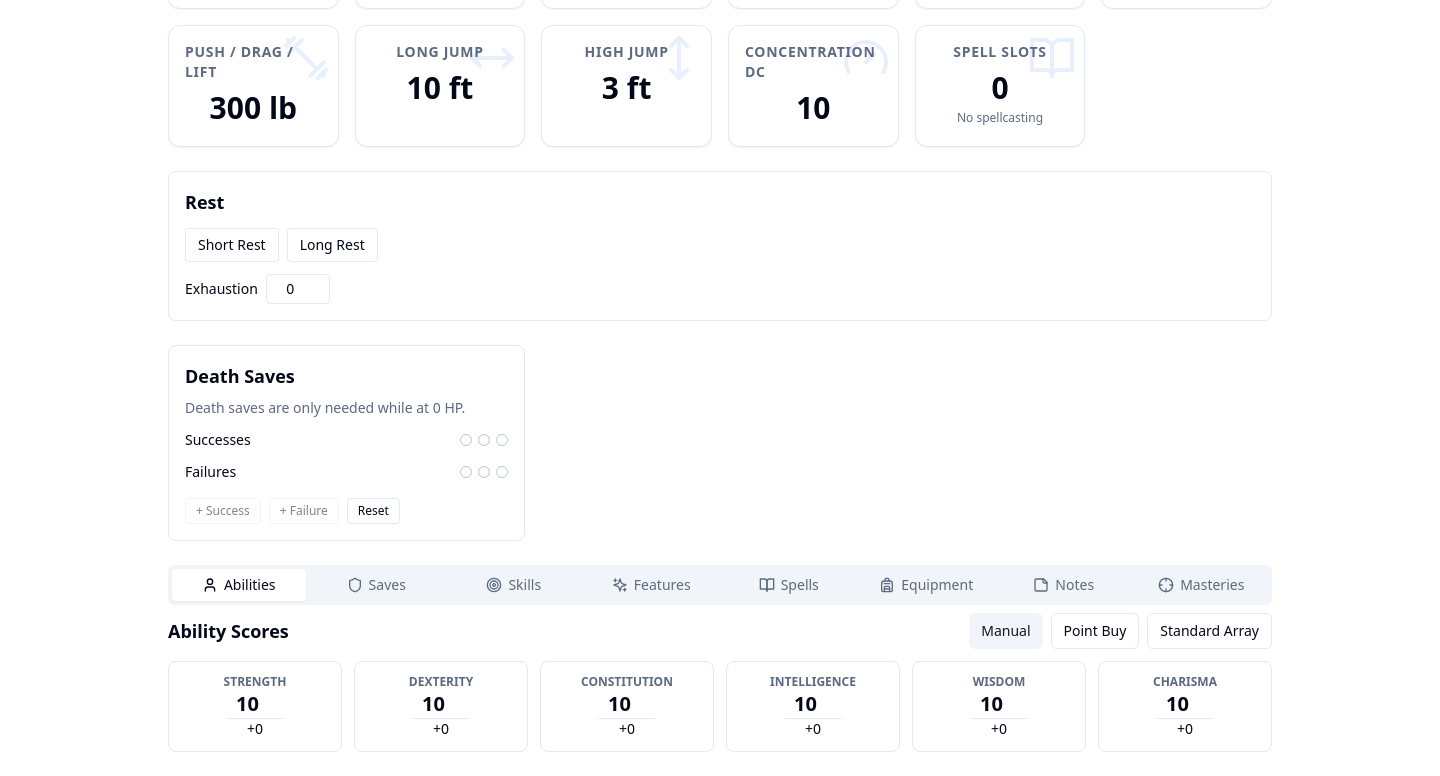
it: System Sheets › warms and renders the extracted shared 5e equipment tab
(page scrolled)
Click the tab "Equipment": point(926, 585) [860, 569, 993, 601]
(page scrolled)
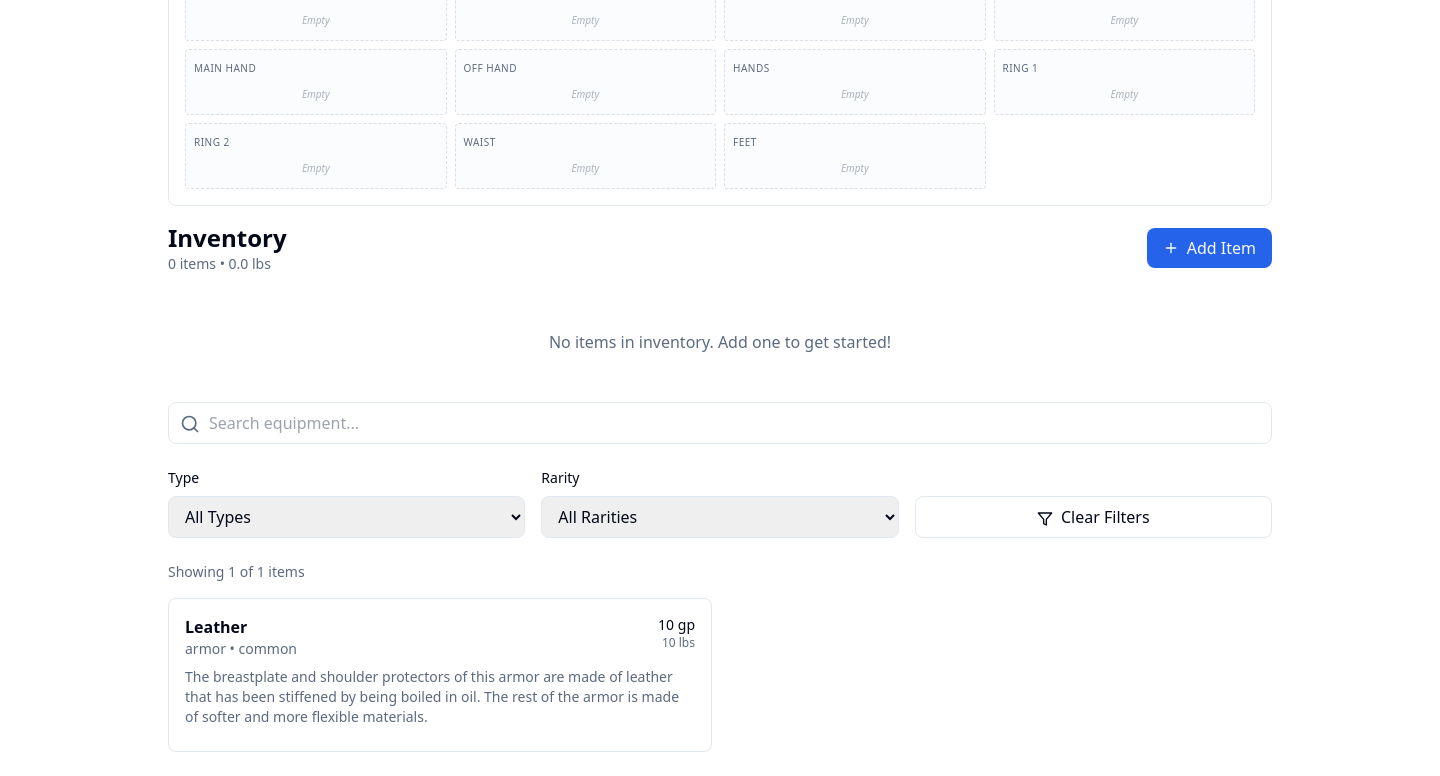
Expected: the field with placeholder "Search equipment..." is shown, [168, 402, 1272, 444]
Expected: the heading "Leather" is shown, [185, 616, 247, 638]
